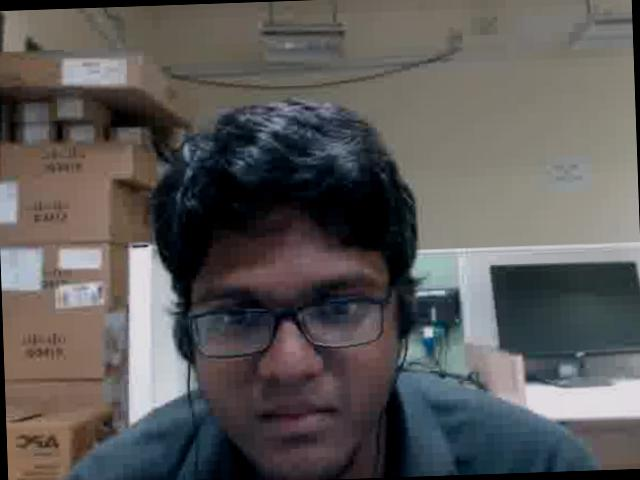bingung: (187, 212, 403, 480)
